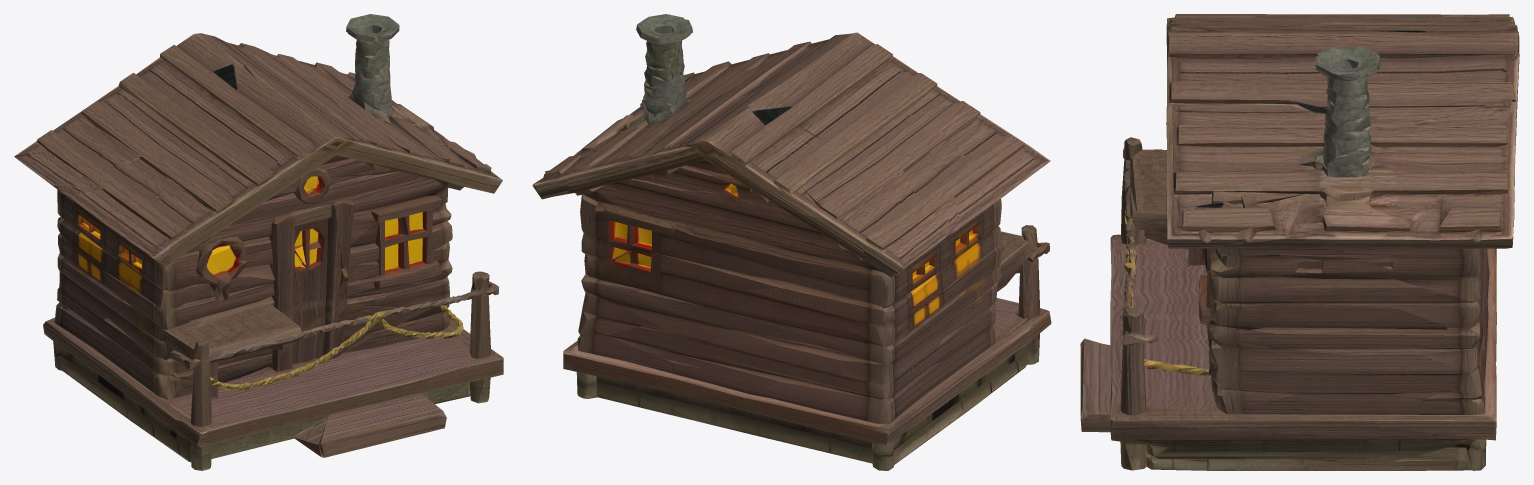
The model's file is home2.glb.
3 views of the same model, side by side, from view 1: azimuth 30°, elevation 25°; view 2: azimuth 150°, elevation 25°; view 3: azimuth 270°, elevation 25° (orthographic). The views are drawn at different scales.
Bounding box in the file's own units: 1.9 × 1.62 × 1.64.
1 material, 1 textured.
